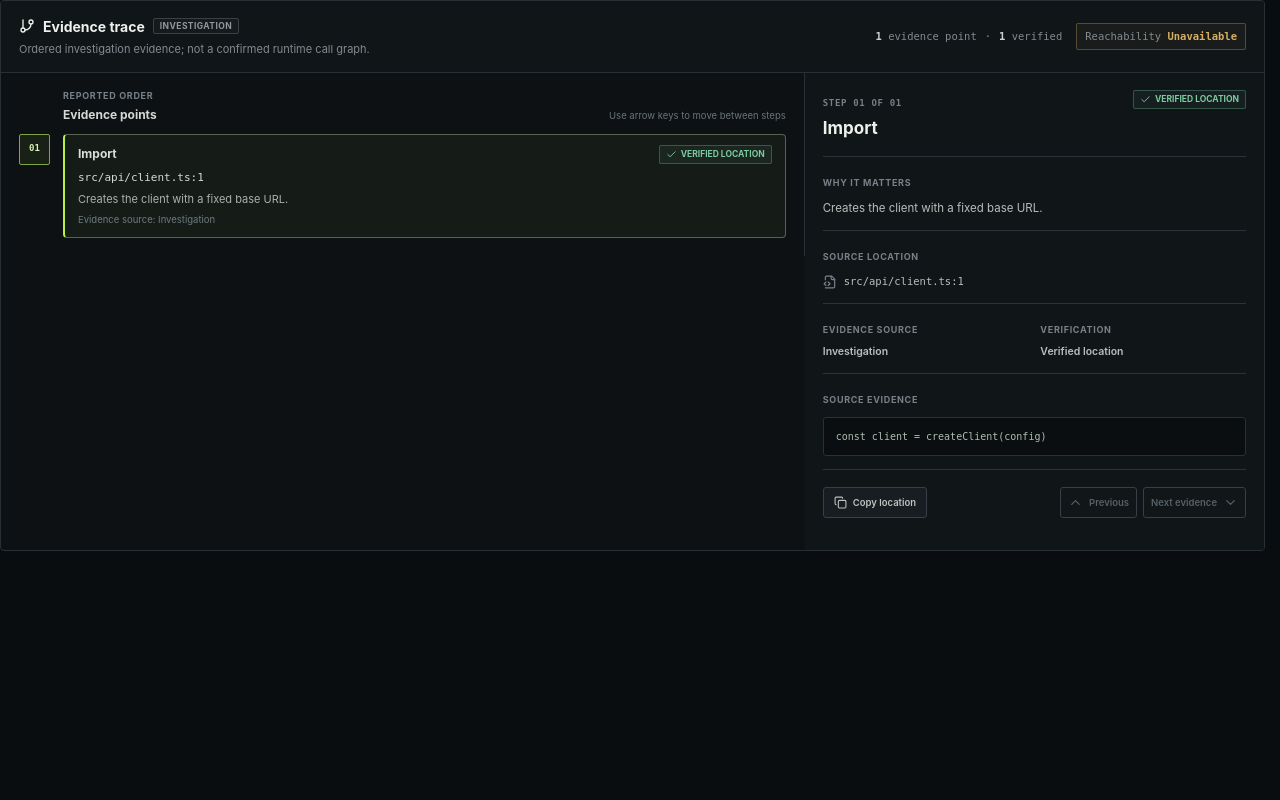
Test case: EvidenceTrace › announces clipboard failure without throwing
Click the button "Copy location" at [875, 503], box [823,487,927,518]
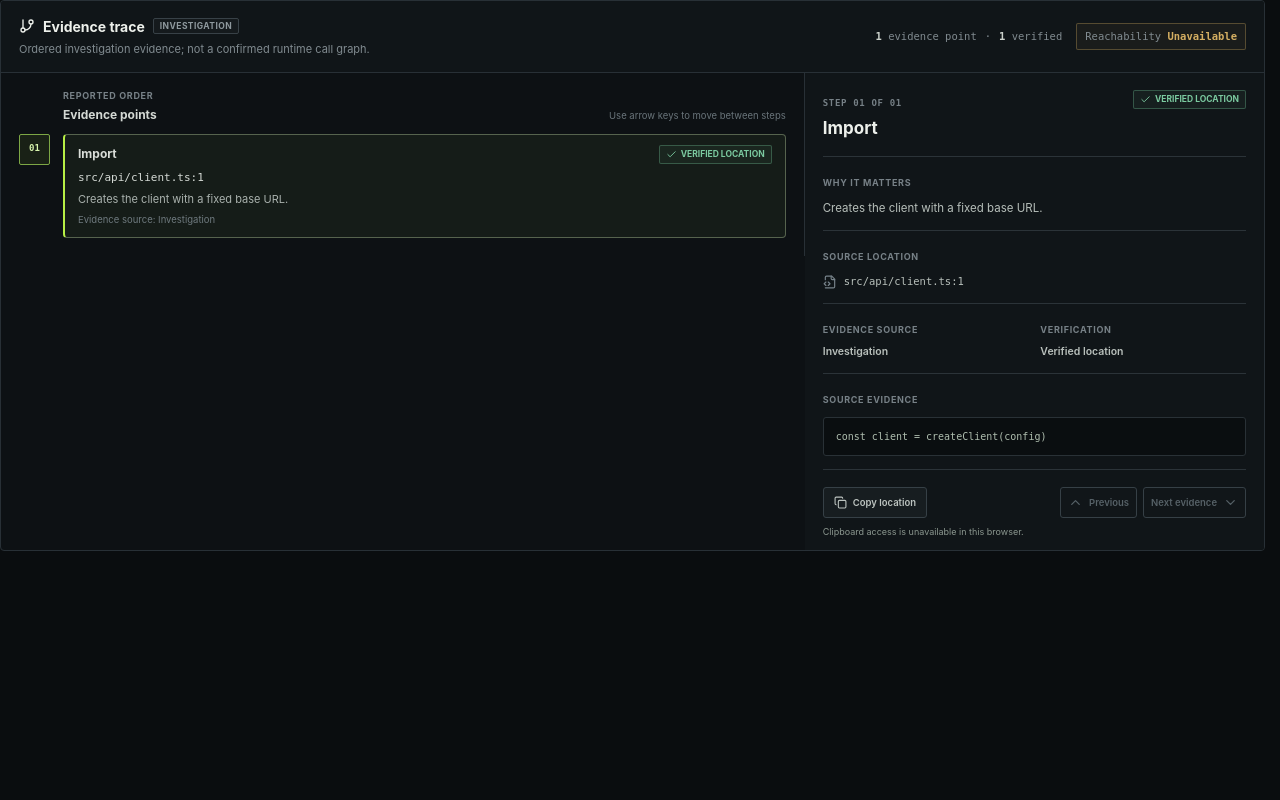
Now the message "Clipboard access is unavailable in this browser." is shown, box [823,526,1024,537]
